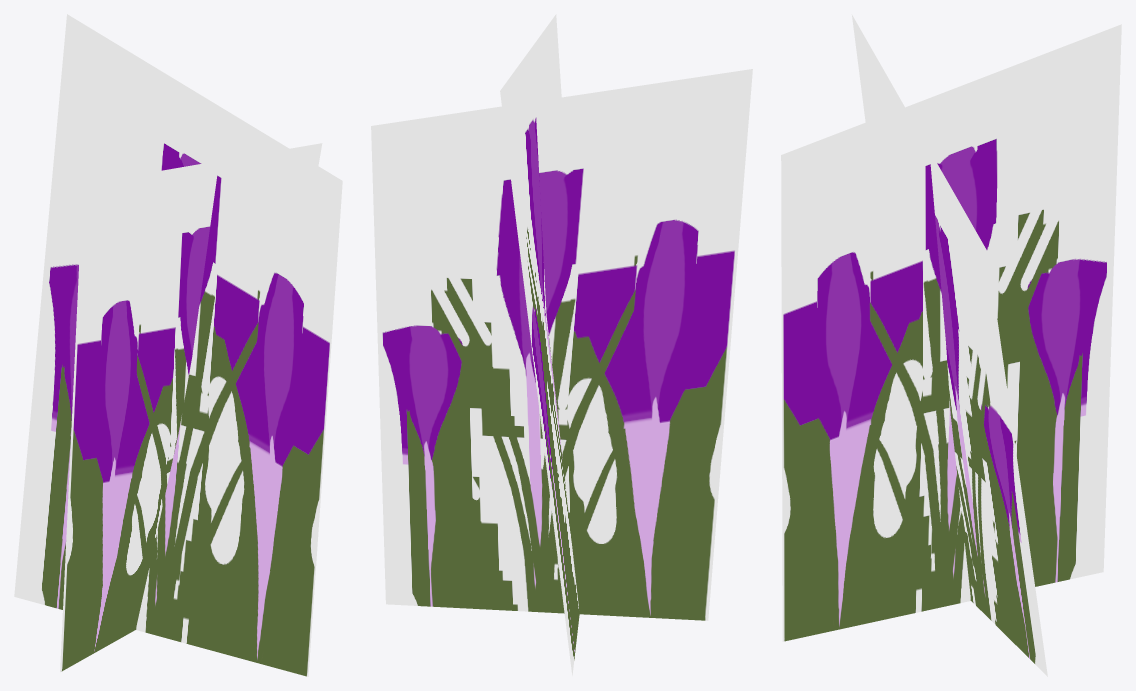
Rendered from PT_Crocuses_02.fbx.
3 renders of one model, left to right at view 1: azimuth 30°, elevation 25°; view 2: azimuth 150°, elevation 25°; view 3: azimuth 270°, elevation 25°, orthographic. The views are drawn at different scales.
Parts seen in each view (by area): view 1: PT_Crocuses_02_LOD0; view 2: PT_Crocuses_02_LOD0; view 3: PT_Crocuses_02_LOD0.
Part boxes in pixels (x1,y1,x2,y2): PT_Crocuses_02_LOD0: [14, 14, 342, 676]; PT_Crocuses_02_LOD0: [371, 14, 752, 675]; PT_Crocuses_02_LOD0: [781, 14, 1121, 676].
Bounding box in the file's own units: 18.97 × 33.31 × 17.76.
